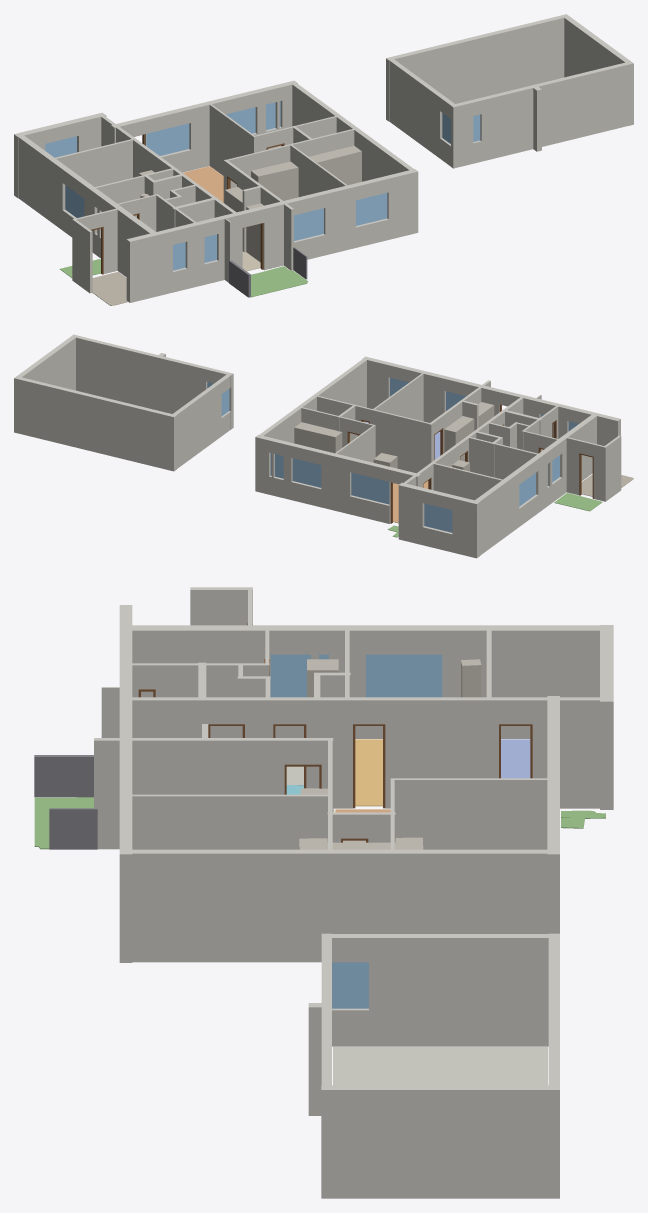
The picture shows the model from 3 angles, top to bottom: view 1: azimuth 30°, elevation 25°; view 2: azimuth 150°, elevation 25°; view 3: azimuth 270°, elevation 25°; orthographic projection. The views are drawn at different scales.
Visible parts, largest first — view 1: walls, furniture_6_closet, furniture_1_closet, floor_18_Outdoor, window_3, floor_19_Storage, railings, window_6, window_12, floor_2_Living_Room, furniture_8_closet, window_2 (+2 smaller); view 2: walls, furniture_1_closet, window_3, furniture_7_closet, window_1, window_2, floor_17_Outdoor, window_0; view 3: walls, floor_1_Undefined, railings, window_0, floor_6_Kitchen, window_14, window_16, floor_18_Outdoor, furniture_1_closet, floor_0_Bed_Room.
Boxes of the visible parts, box(x1,y1,x2,y2) form: walls: box(14, 14, 633, 302); furniture_6_closet: box(251, 161, 298, 200); furniture_1_closet: box(281, 134, 361, 185); floor_18_Outdoor: box(251, 266, 308, 297); window_3: box(146, 123, 189, 155); floor_19_Storage: box(92, 272, 127, 305); railings: box(229, 247, 307, 297); window_6: box(356, 193, 387, 225); window_12: box(294, 208, 323, 240); floor_2_Living_Room: box(183, 166, 223, 202); furniture_8_closet: box(246, 203, 263, 262); window_2: box(45, 136, 76, 157); walls: box(14, 334, 621, 558); furniture_1_closet: box(294, 410, 365, 453); window_3: box(351, 472, 389, 504); furniture_7_closet: box(444, 416, 474, 461); window_1: box(292, 458, 321, 487); window_2: box(424, 503, 452, 532); floor_17_Outdoor: box(554, 492, 602, 511); window_0: box(519, 473, 535, 506); walls: box(94, 587, 613, 1198); floor_1_Undefined: box(333, 1047, 547, 1085); railings: box(34, 755, 97, 849); window_0: box(366, 654, 442, 697); floor_6_Kitchen: box(355, 739, 382, 806); window_14: box(332, 962, 368, 1008); window_16: box(270, 654, 310, 697); floor_18_Outdoor: box(34, 797, 93, 849); furniture_1_closet: box(299, 837, 423, 849); floor_0_Bed_Room: box(501, 739, 530, 778).
Bounding box in the file's own units: 26.81 × 2.72 × 13.06.
